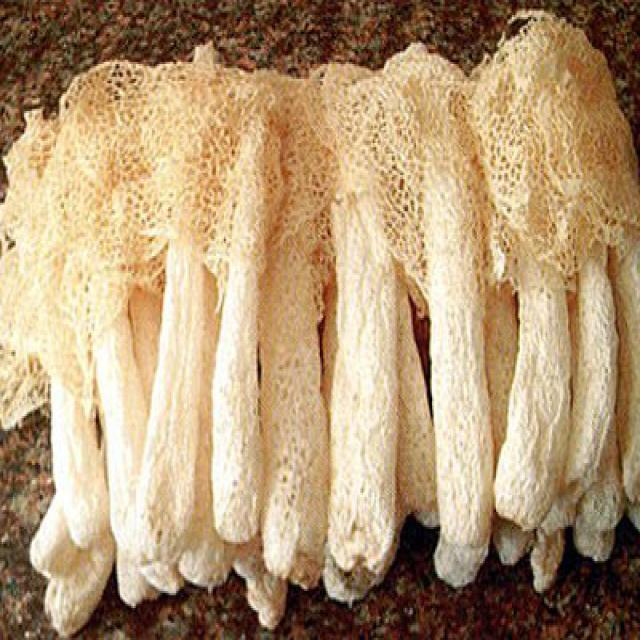Dictyophora indusiate: (482, 21, 640, 524), (66, 58, 209, 567), (357, 53, 498, 544), (2, 120, 107, 543), (252, 76, 329, 586), (323, 69, 399, 571), (221, 76, 264, 541)
